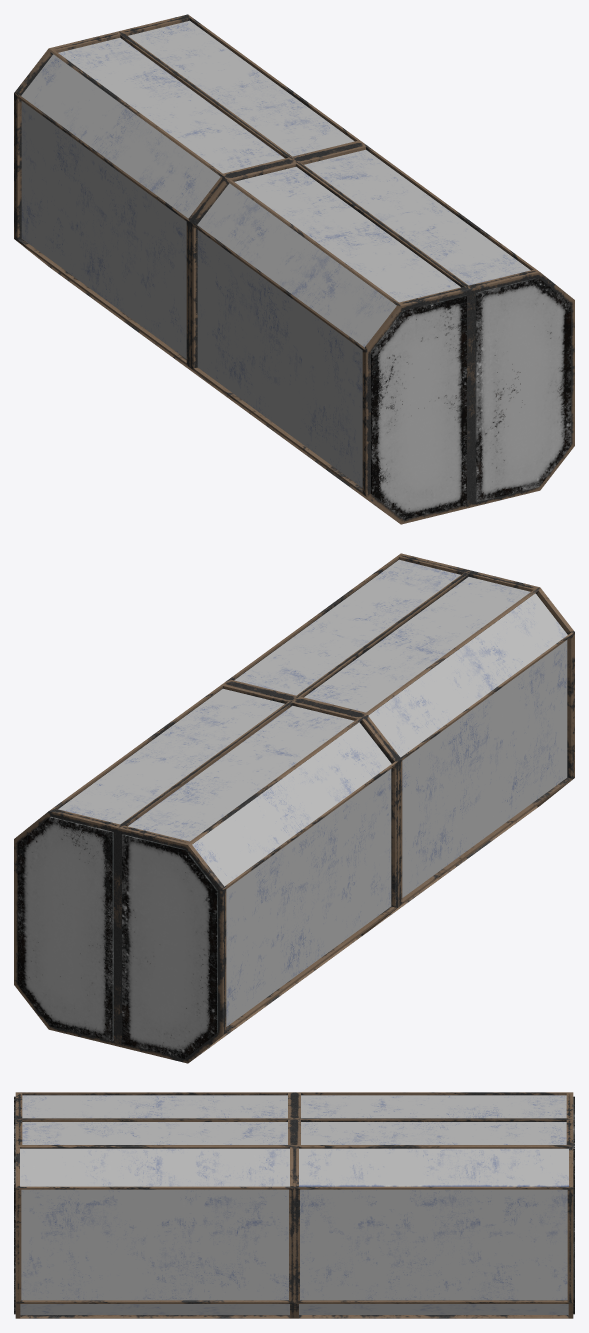
The model's file is Shipping container (Closed).obj.
3 views of the same model, one above another, from view 1: azimuth 30°, elevation 25°; view 2: azimuth 150°, elevation 25°; view 3: azimuth 270°, elevation 25° (orthographic). The views are drawn at different scales.
Parts seen in each view (by area): view 1: Cube; view 2: Cube; view 3: Cube.
Part boxes in pixels (x1,y1,x2,y2): Cube: (14, 14, 574, 524); Cube: (14, 553, 574, 1063); Cube: (14, 1092, 574, 1318).
Bounding box in the file's own units: 6.04 × 6.04 × 17.77.
Materials: 3 (3 with a texture image).
